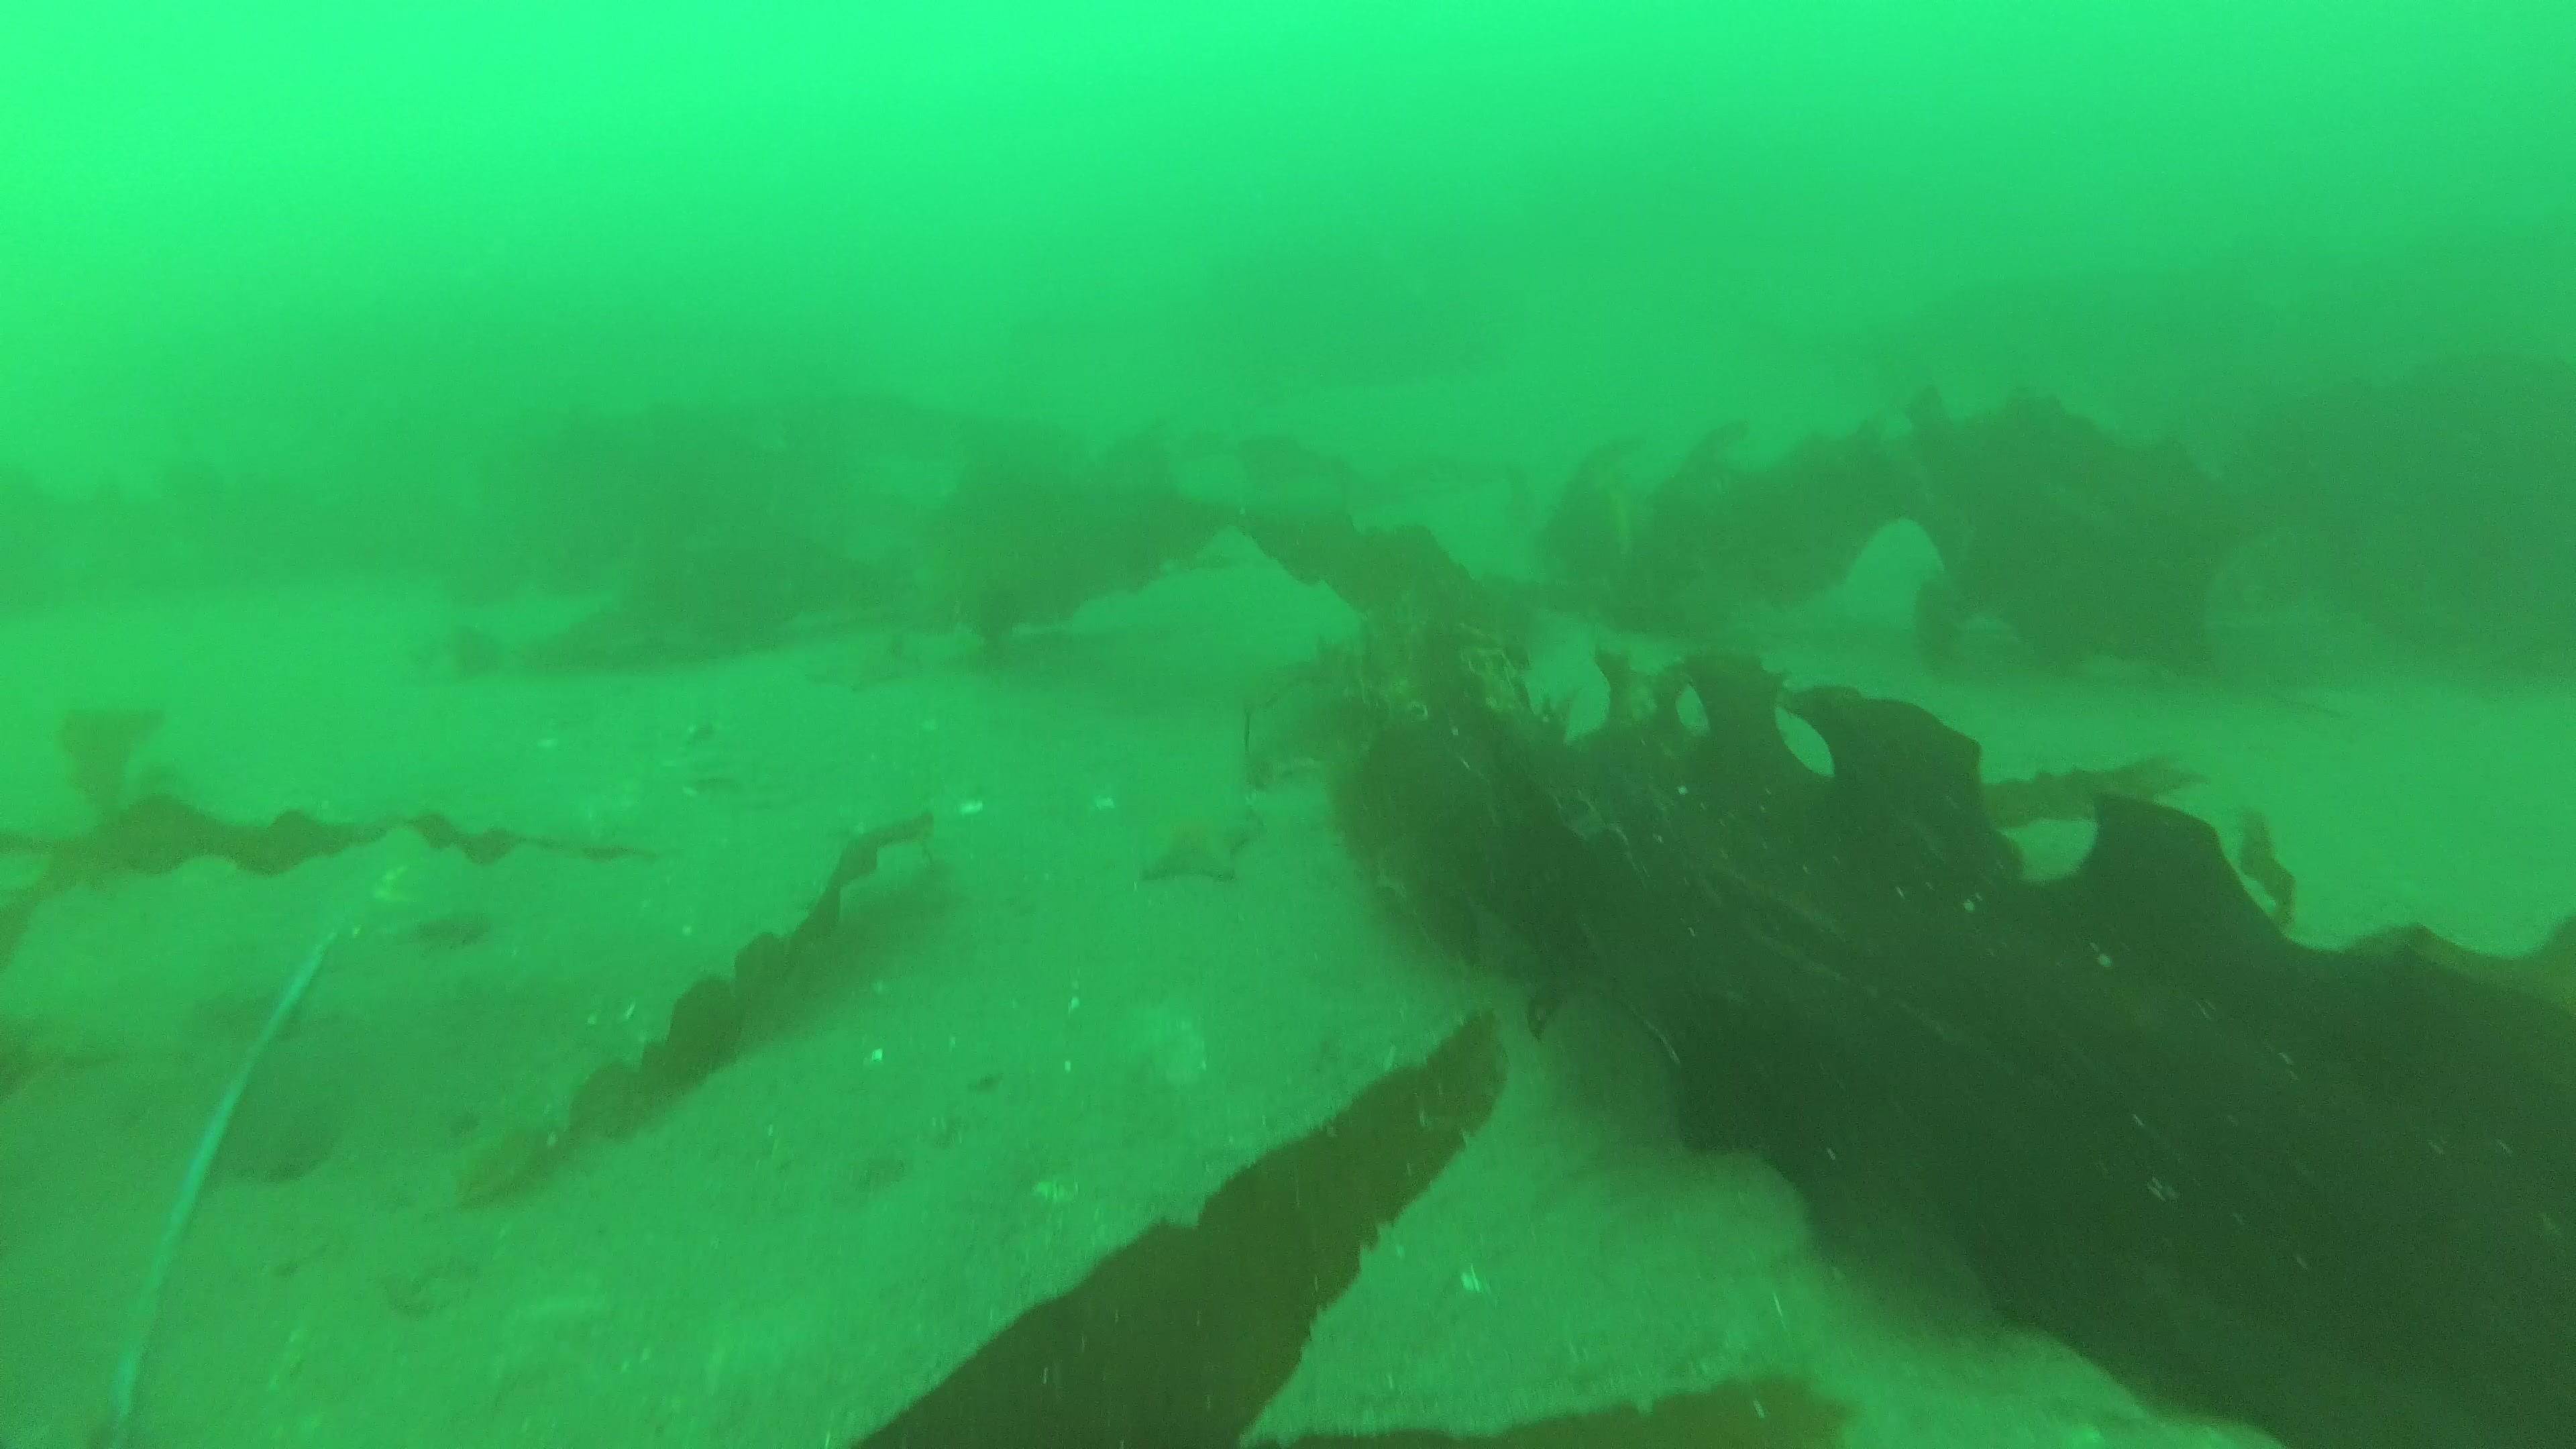starfish: (1138, 801, 1261, 888), (805, 632, 924, 690)
